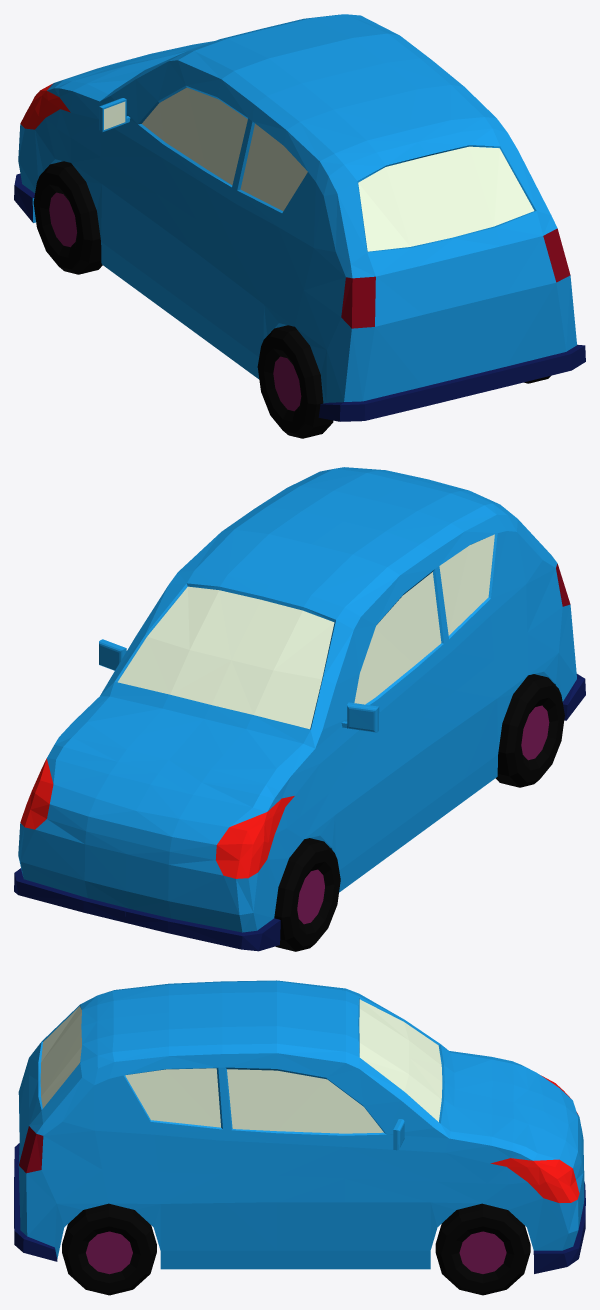
The model's file is car_1.obj.
The picture shows the model from 3 angles, top to bottom: view 1: azimuth 30°, elevation 25°; view 2: azimuth 150°, elevation 25°; view 3: azimuth 270°, elevation 25°; orthographic projection. The views are drawn at different scales.
Visible parts, largest first — view 1: body.006, tire2.005, tire1.007; view 2: body.006, tire2.005, tire1.007; view 3: body.006, tire1.007, tire2.005.
Boxes of the visible parts, x1,y1,x2,y2 form: body.006: (14,14,585,421); tire2.005: (257,325,550,438); tire1.007: (33,161,102,274); body.006: (14,467,585,951); tire2.005: (495,674,564,787); tire1.007: (274,838,340,951); body.006: (14,980,585,1273); tire1.007: (435,1203,530,1295); tire2.005: (62,1203,156,1295).
Bounding box in the file's own units: 1.98 × 1.93 × 4.24.
